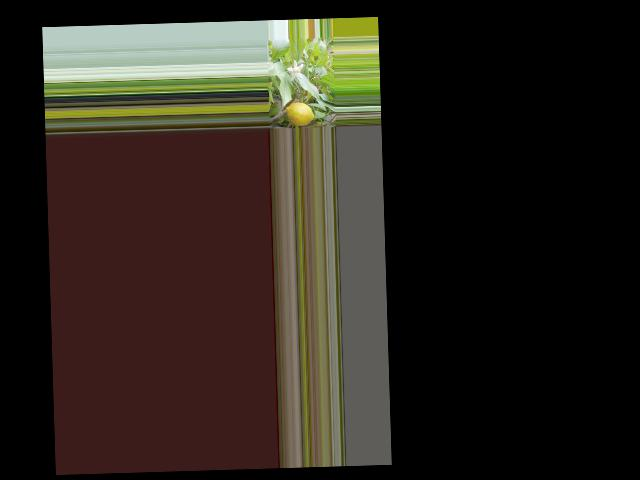lemon: (283, 98, 315, 126)
